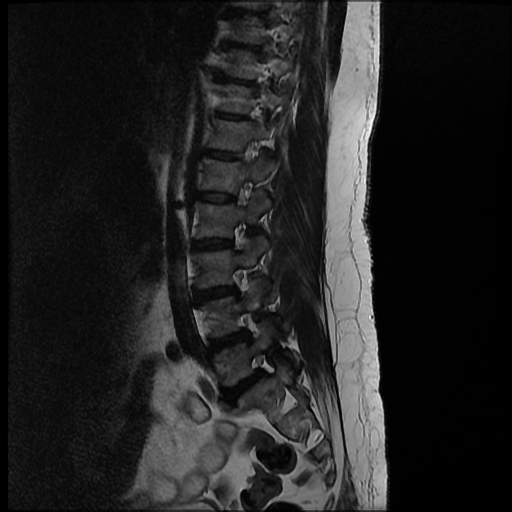RFS0: (220, 259, 259, 300), (221, 215, 256, 260), (245, 345, 279, 389), (225, 172, 259, 215), (226, 306, 262, 345)
